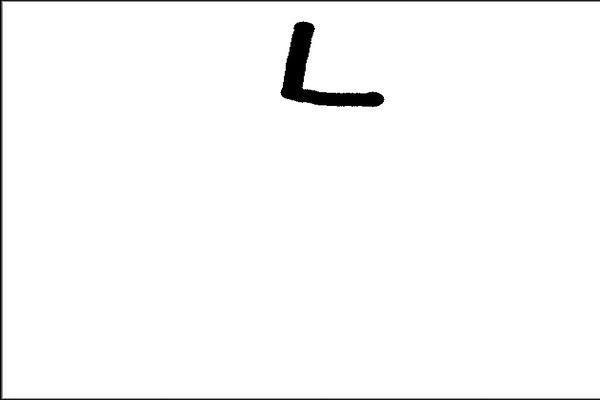L: (266, 13, 394, 115)
